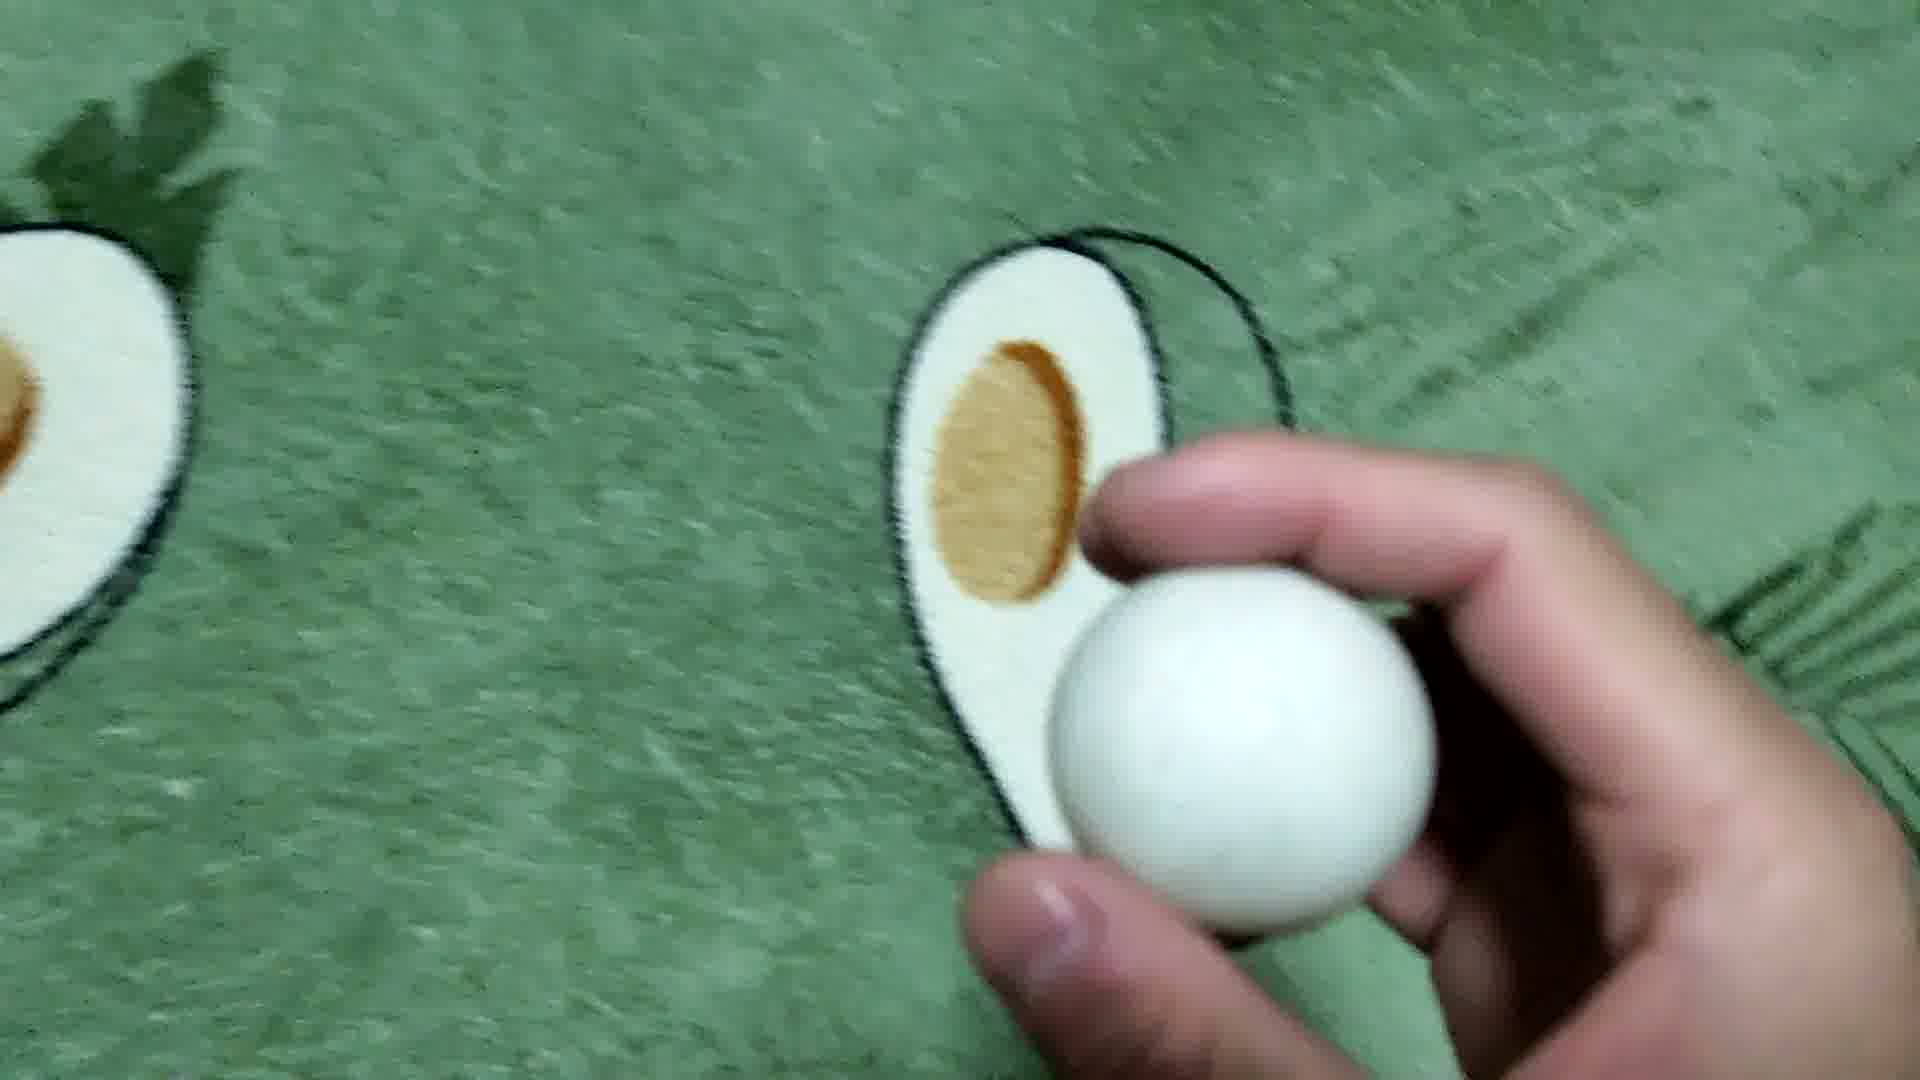Ball: (1051, 560, 1429, 932)
